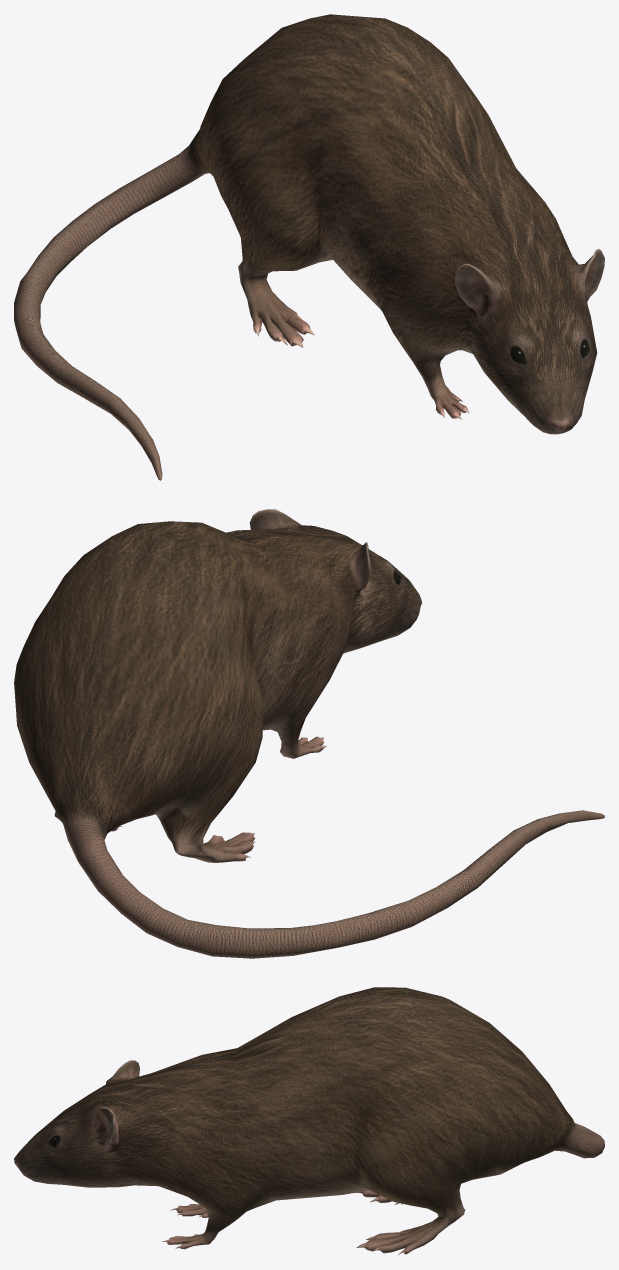
The model's file is BrownRat.glb.
3 renders of one model, top to bottom at view 1: azimuth 30°, elevation 25°; view 2: azimuth 150°, elevation 25°; view 3: azimuth 270°, elevation 25°, orthographic. The views are drawn at different scales.
Size of the model in its own units: 0.6387 by 0.4185 by 0.9585.
Materials: 1 (1 with a texture image).
